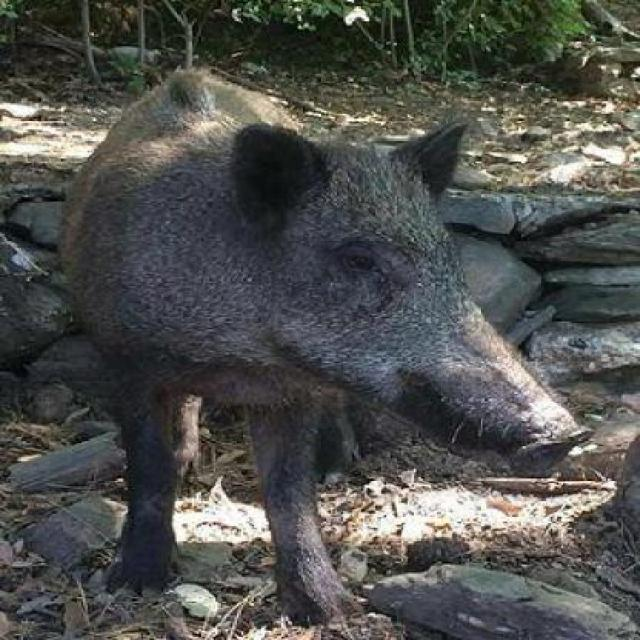wildboar: (49, 58, 600, 640)
